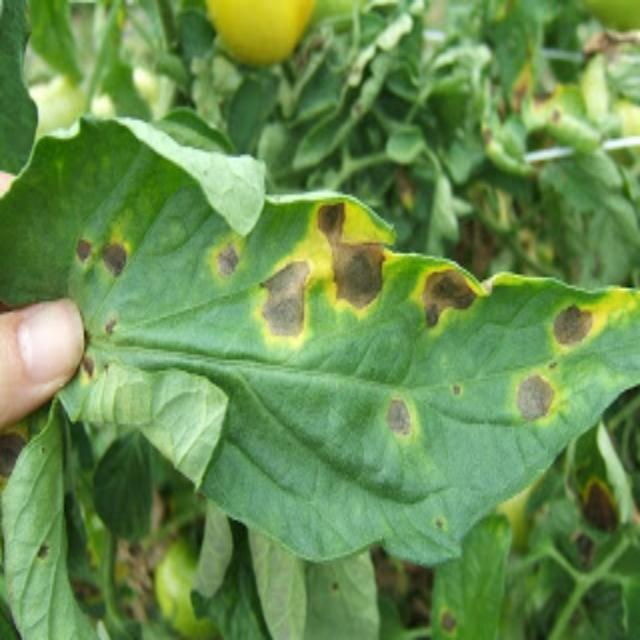Early_blight: (311, 201, 388, 317), (258, 256, 309, 342), (419, 264, 480, 332), (511, 367, 558, 424), (73, 234, 131, 278), (583, 28, 639, 67), (548, 302, 595, 348), (505, 58, 535, 117), (382, 389, 415, 440), (207, 233, 241, 279)
